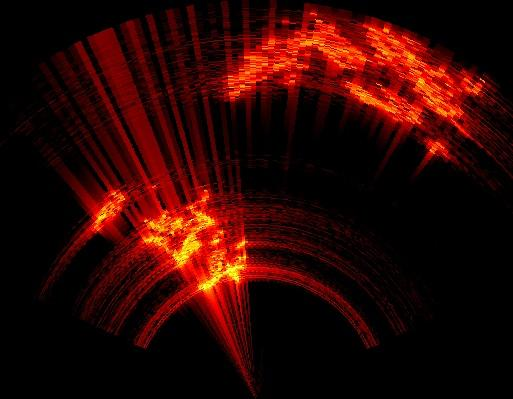shipwreck: (228, 7, 485, 136), (141, 192, 245, 290), (92, 190, 126, 231), (429, 140, 450, 154)
